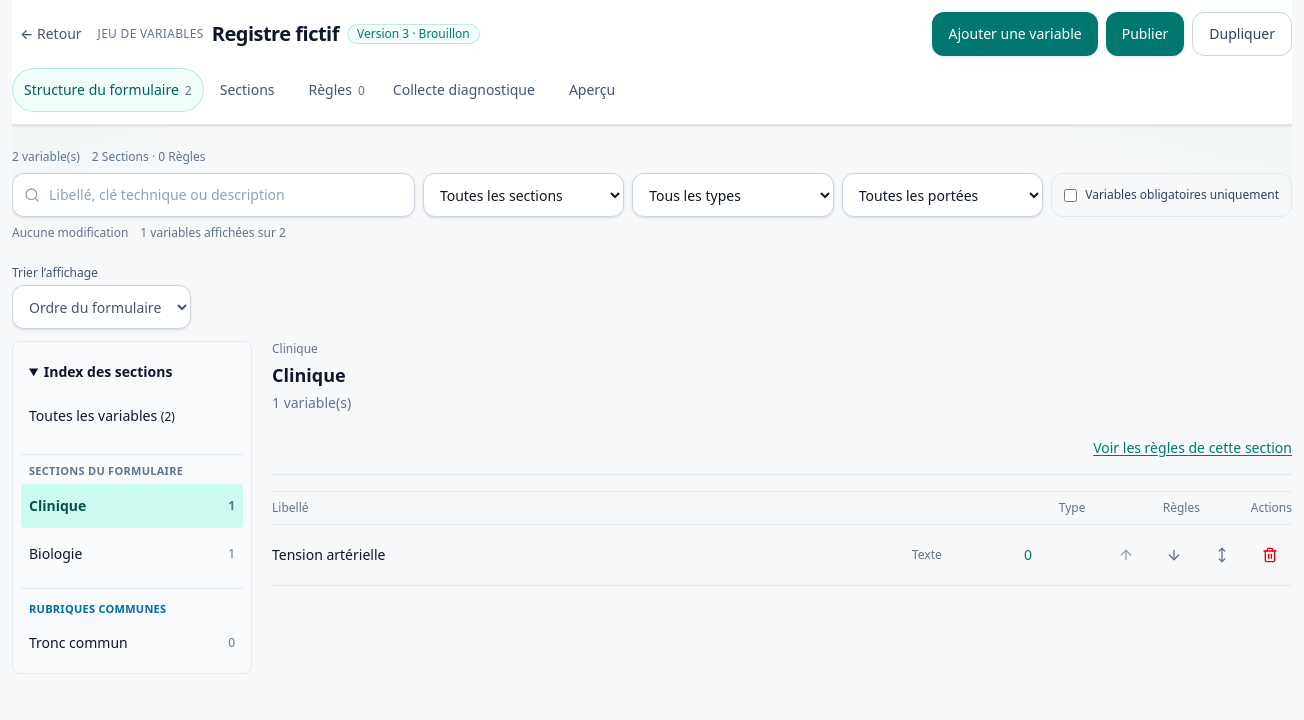
Test: TemplateVersionEditor › serveur sans catalogue : la commande ne se rend pas du tout
The width and height of the screenshot is (1304, 720).
Click the tab "Sections" at (250, 90), box [208,68,292,112]
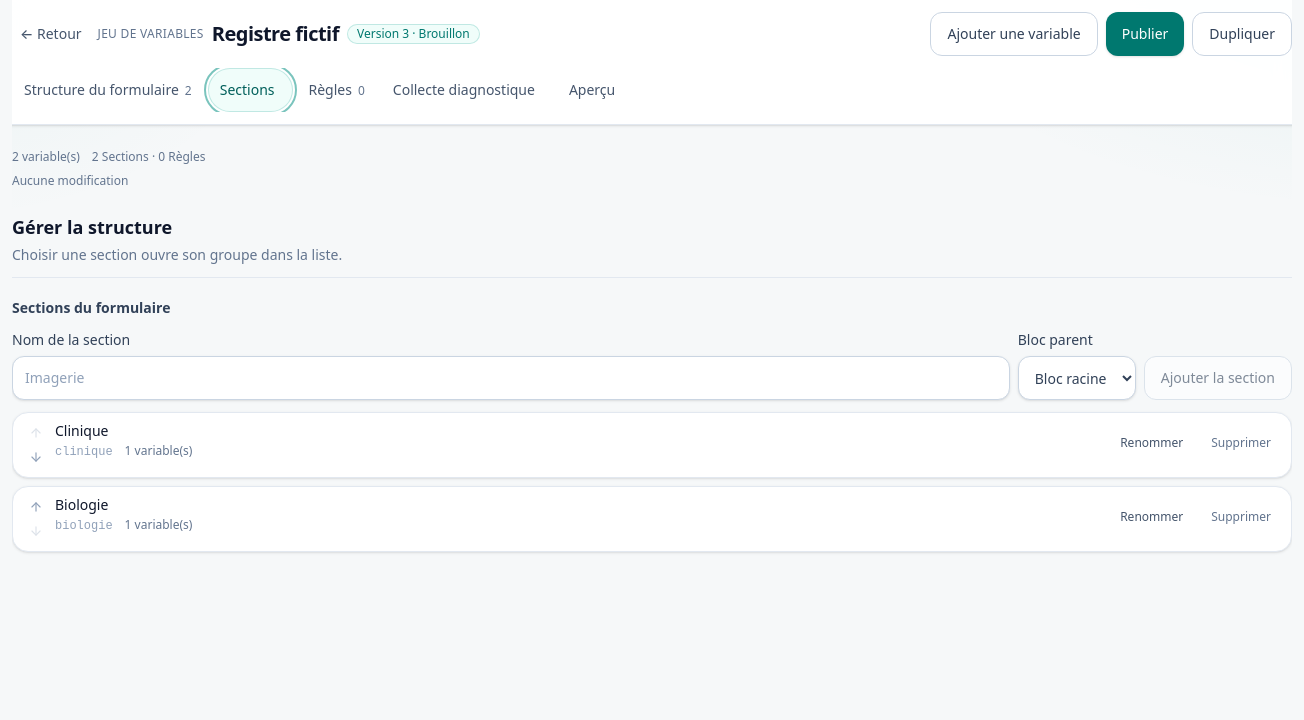
Result: the button "Ajouter la section" is shown at [1144,356,1292,400]
